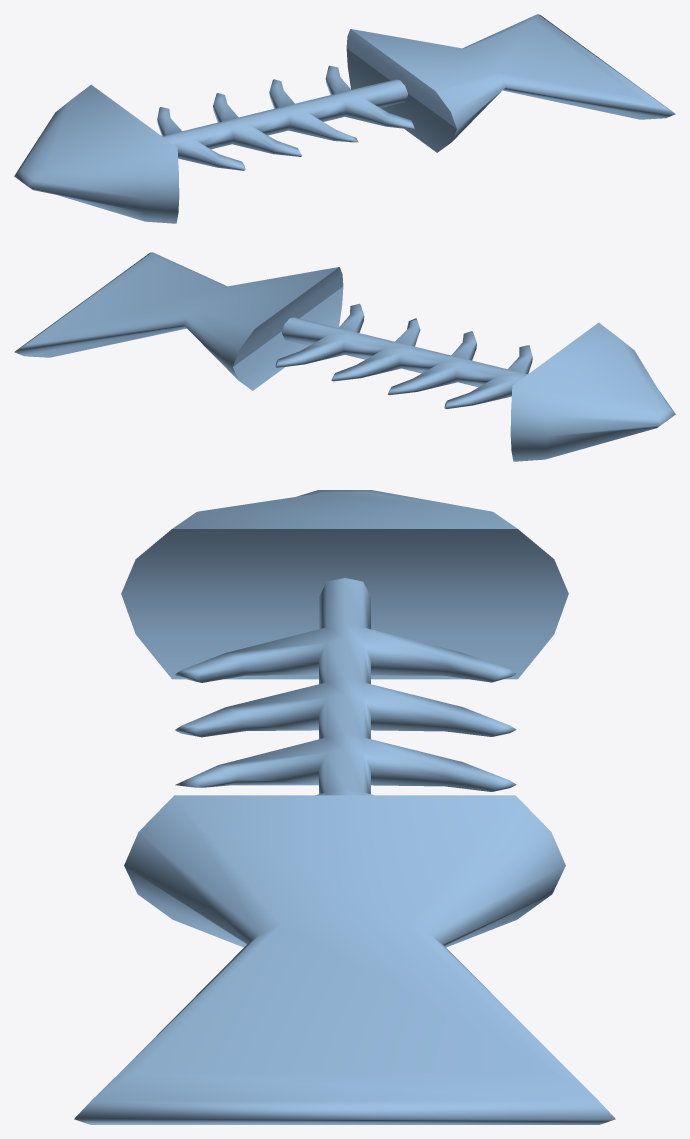
The model's file is PSKfishbone.FBX.
3 views of the same model, one above another, from view 1: azimuth 30°, elevation 25°; view 2: azimuth 150°, elevation 25°; view 3: azimuth 270°, elevation 25° (orthographic). The views are drawn at different scales.
Parts seen in each view (by area): view 1: PSKfishbone; view 2: PSKfishbone; view 3: PSKfishbone.
Boxes of the visible parts, x1=… form: PSKfishbone: x1=14, y1=14, x2=675, y2=223; PSKfishbone: x1=14, y1=252, x2=675, y2=461; PSKfishbone: x1=74, y1=490, x2=615, y2=1124.
Bounding box in the file's own units: 0.75 × 0.0925 × 0.3.
